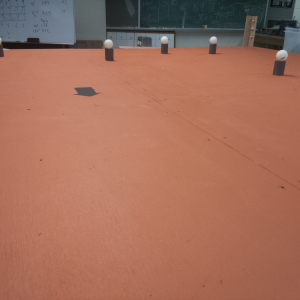corner: (241, 13, 258, 48)
obstacle: (272, 50, 289, 77), (103, 38, 117, 62), (158, 33, 171, 57), (207, 36, 218, 56), (1, 36, 5, 57)
start: (73, 85, 100, 100)
